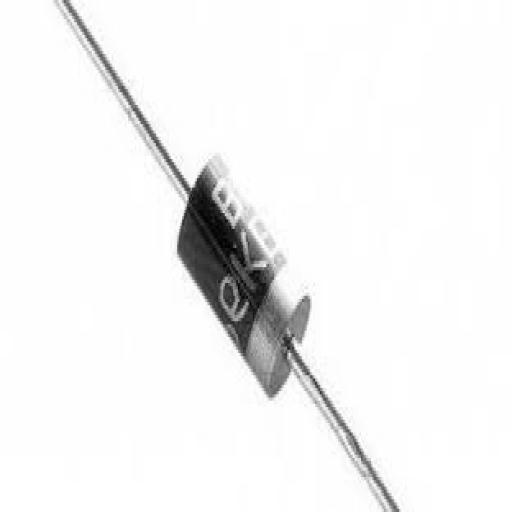DIODE: (51, 0, 404, 509)
